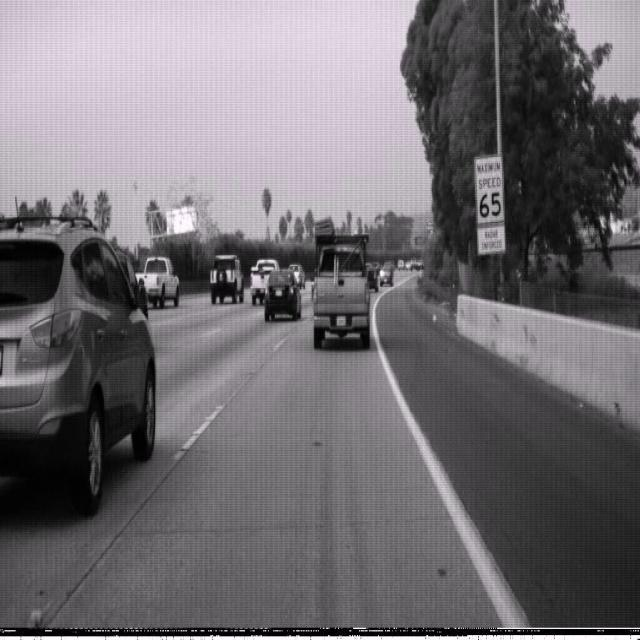speedLimit65: (474, 152, 505, 226)
